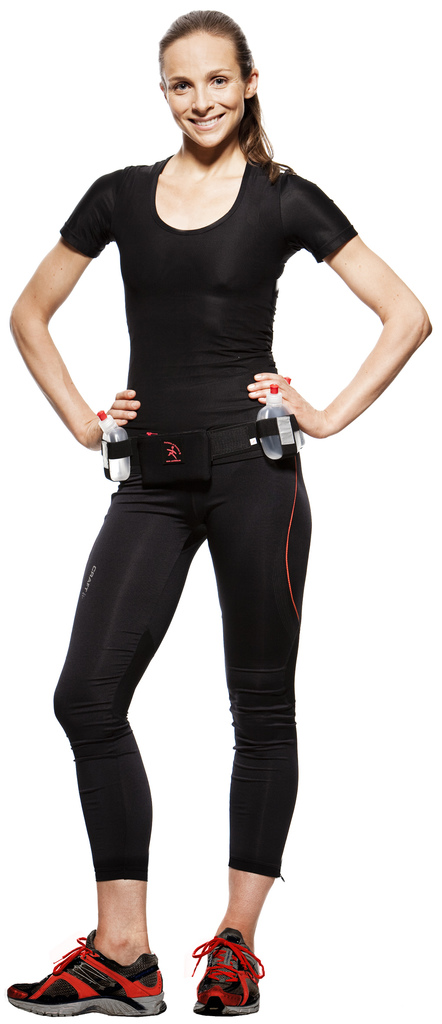Person: (6, 10, 432, 1017)
